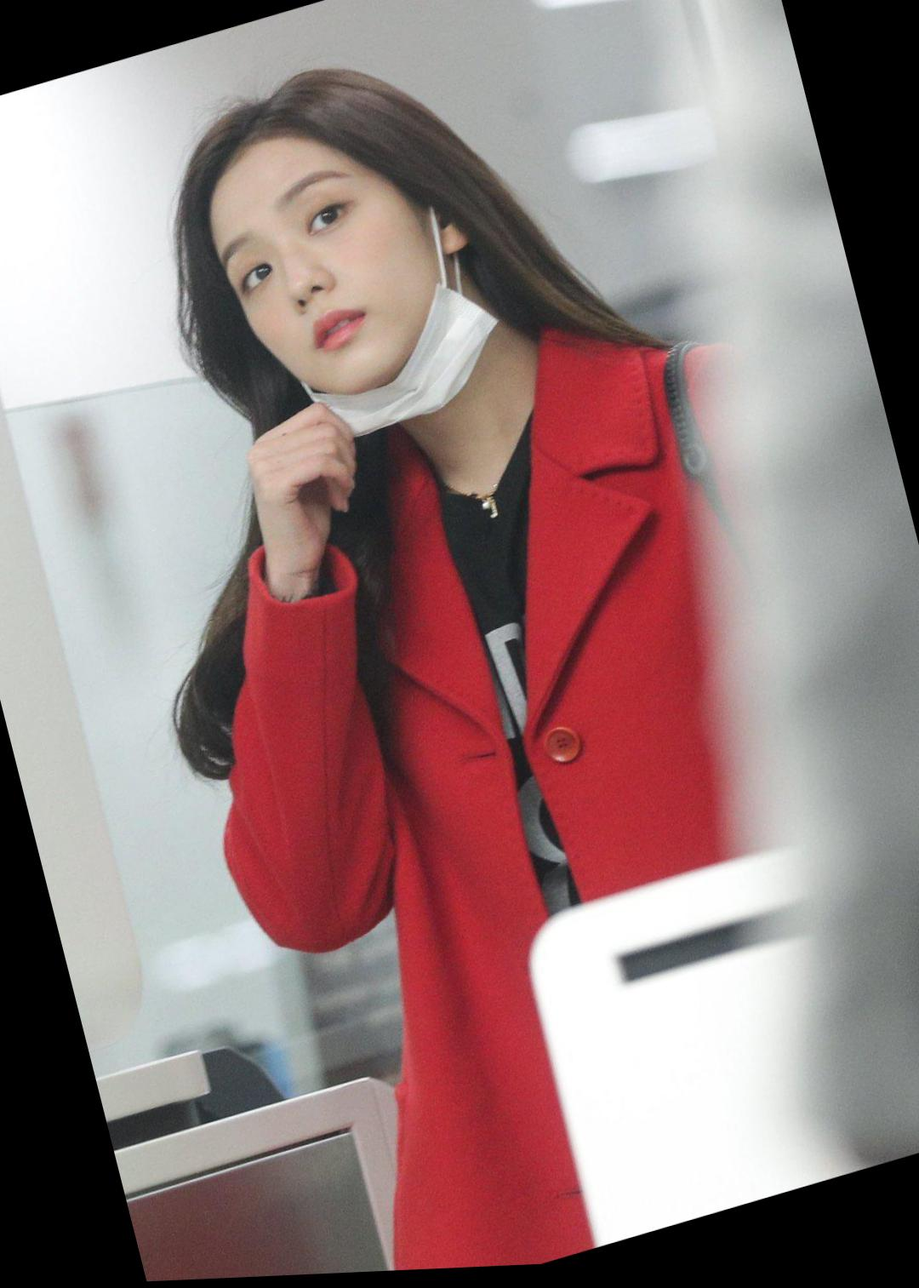WRONG: (198, 129, 482, 441)
